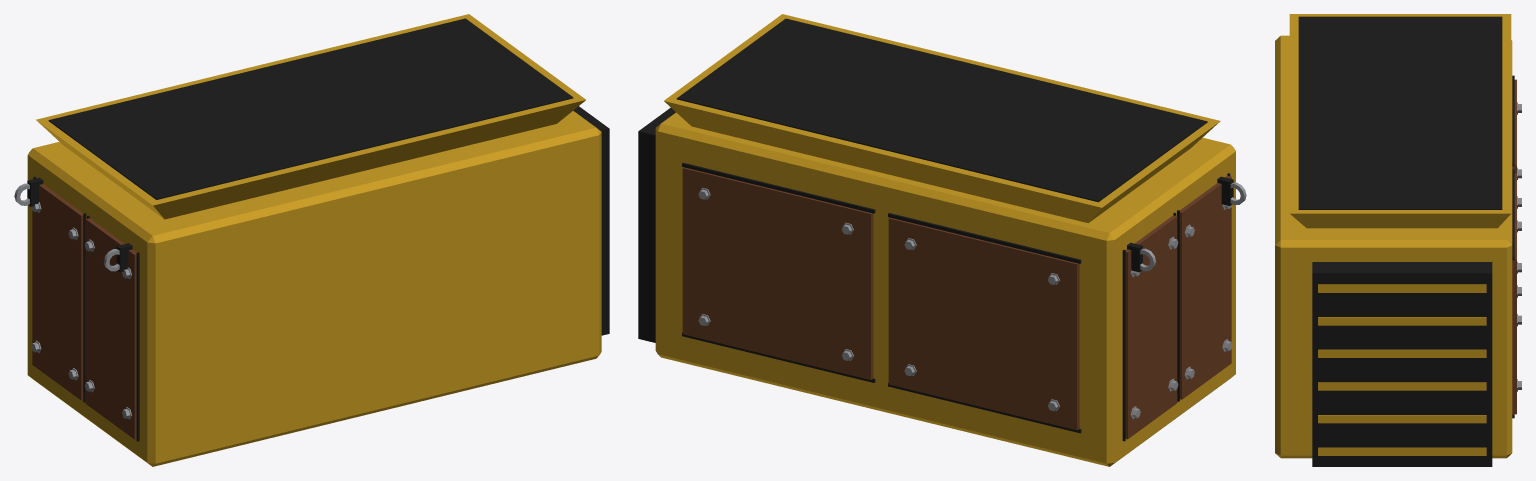
Rendered from md40_feed.obj.
The picture shows the model from 3 angles, left to right: view 1: azimuth 30°, elevation 25°; view 2: azimuth 150°, elevation 25°; view 3: azimuth 270°, elevation 25°; orthographic projection. The views are drawn at different scales.
Parts seen in each view (by area): view 1: md40_feed; view 2: md40_feed; view 3: md40_feed.
Boxes of the visible parts, x1,y1,x2,y2 form: md40_feed: [14, 14, 609, 466]; md40_feed: [638, 14, 1246, 466]; md40_feed: [1275, 14, 1521, 466].
Size of the model in its own units: 4.9 by 2.39 by 2.19.
